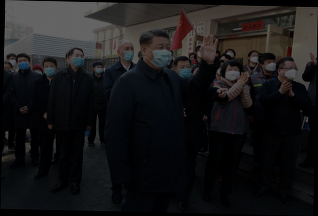with_mask: (144, 41, 171, 70), (120, 44, 134, 63), (177, 62, 193, 78), (282, 65, 297, 81), (71, 52, 85, 69), (225, 66, 240, 81), (264, 59, 277, 72), (17, 57, 29, 71), (43, 64, 55, 77), (249, 53, 259, 64), (93, 65, 104, 75), (224, 51, 234, 60), (9, 56, 16, 67)
